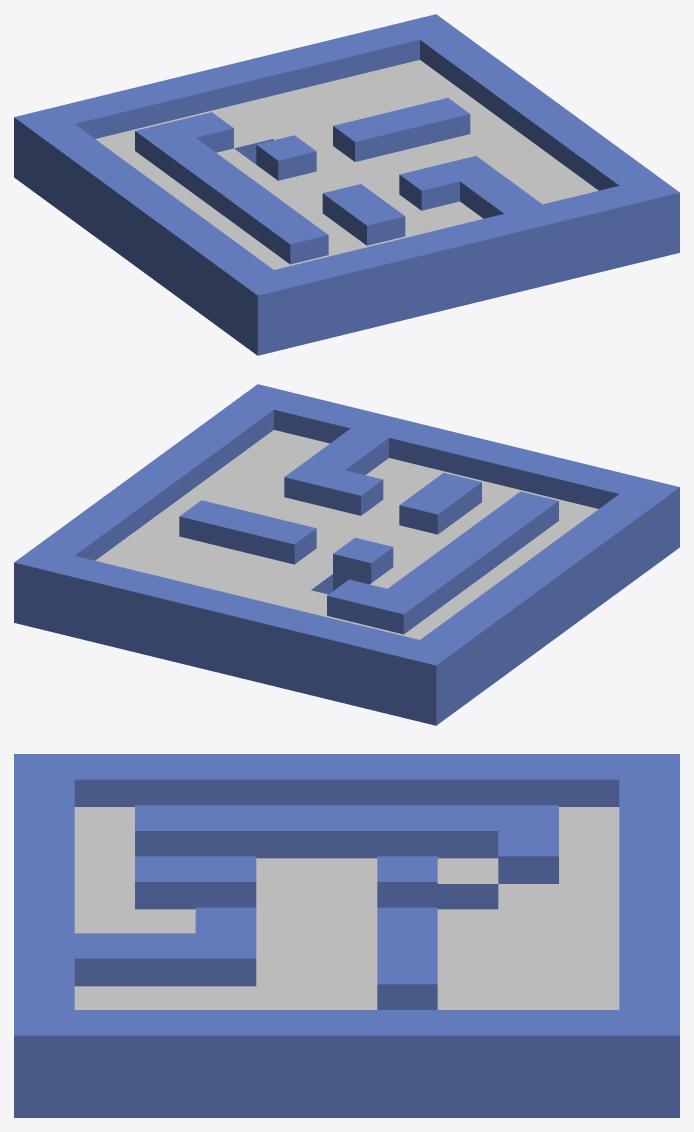
Rendered from 047_platform.fbx.
3 views of the same model, one above another, from view 1: azimuth 30°, elevation 25°; view 2: azimuth 150°, elevation 25°; view 3: azimuth 270°, elevation 25° (orthographic). The views are drawn at different scales.
Parts seen in each view (by area): view 1: Cube; view 2: Cube; view 3: Cube.
Part boxes in pixels (x1=…): Cube: x1=14, y1=14, x2=679, y2=355; Cube: x1=14, y1=384, x2=679, y2=725; Cube: x1=14, y1=754, x2=679, y2=1117.
Bounding box in the file's own units: 1100 × 150 × 1100.
